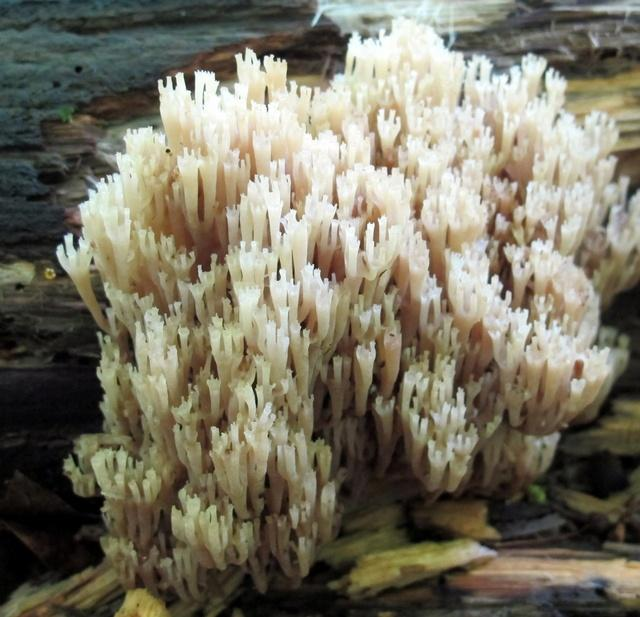Edible Mushroom: (54, 16, 638, 612)
